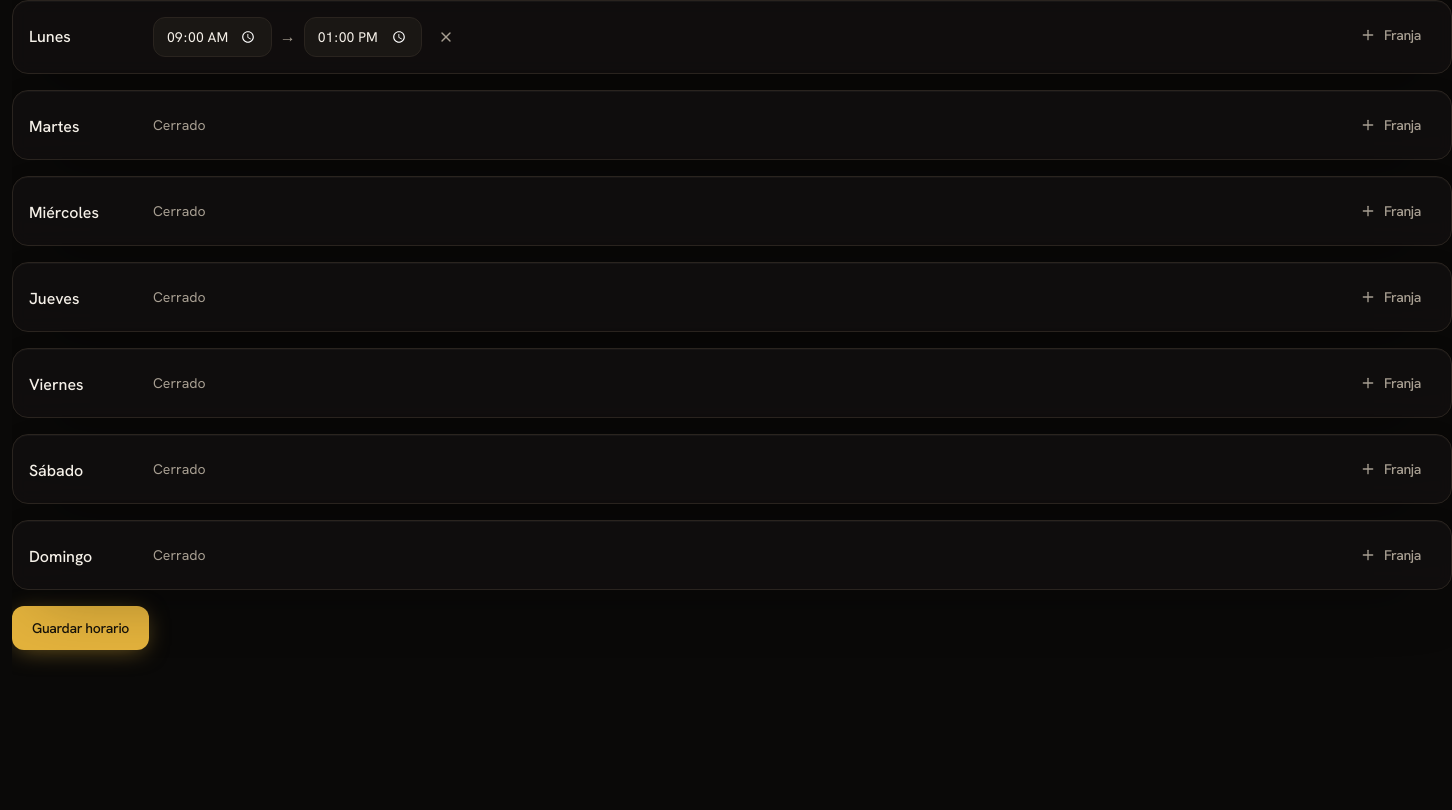
it: ScheduleEditor › shows the error returned by the action
Click the button "Guardar horario".
click(80, 628)  # box [12, 606, 149, 650]
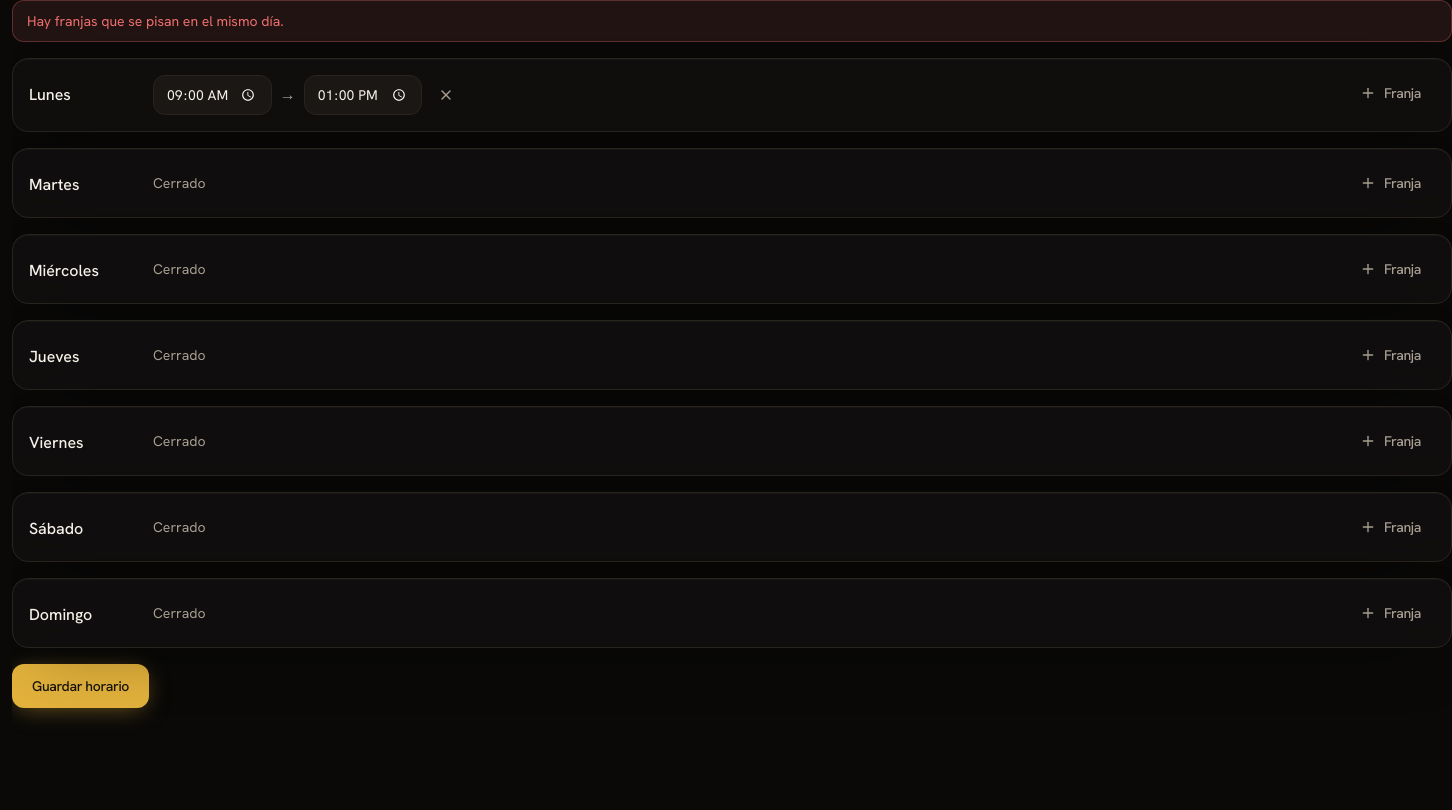
Expected: the text "Hay franjas que se pisan en el mismo día." is shown, [12, 0, 1451, 42]
